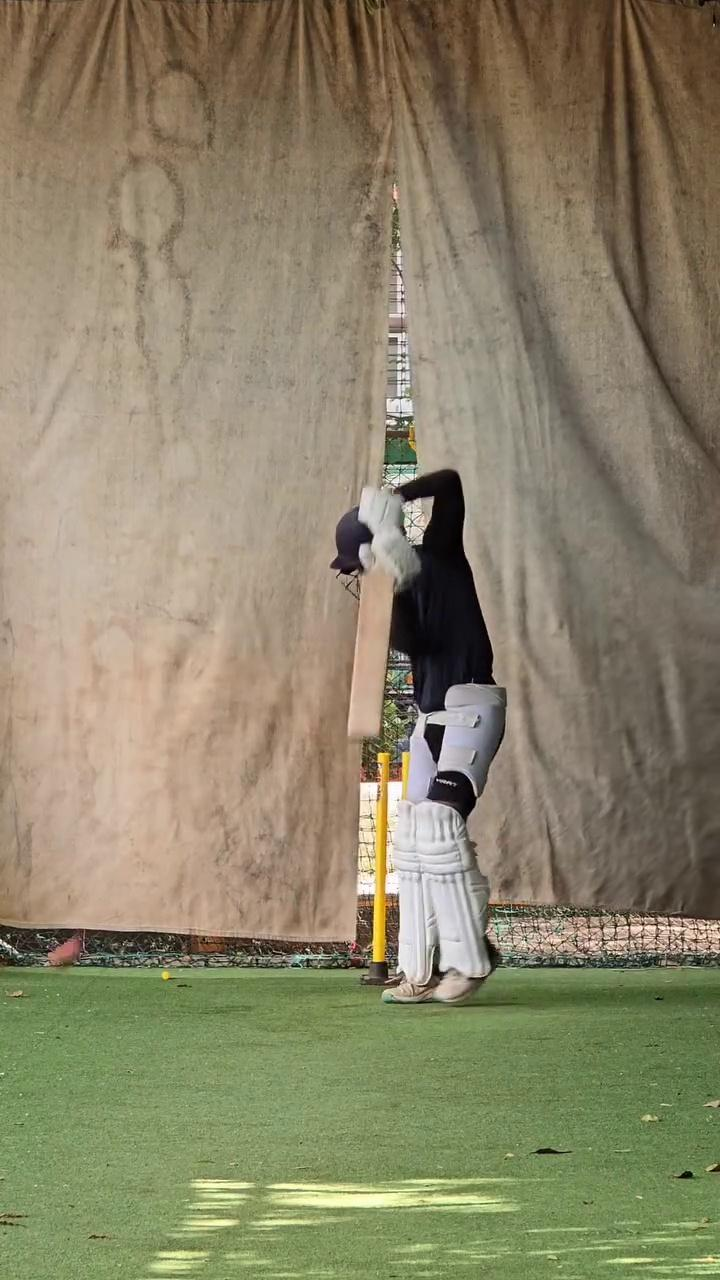bat: (345, 570, 395, 744)
